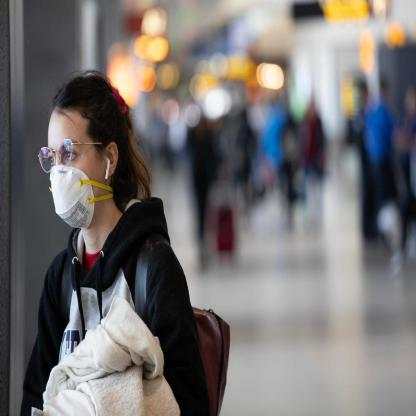Wearing_Mask: (45, 121, 104, 233)
